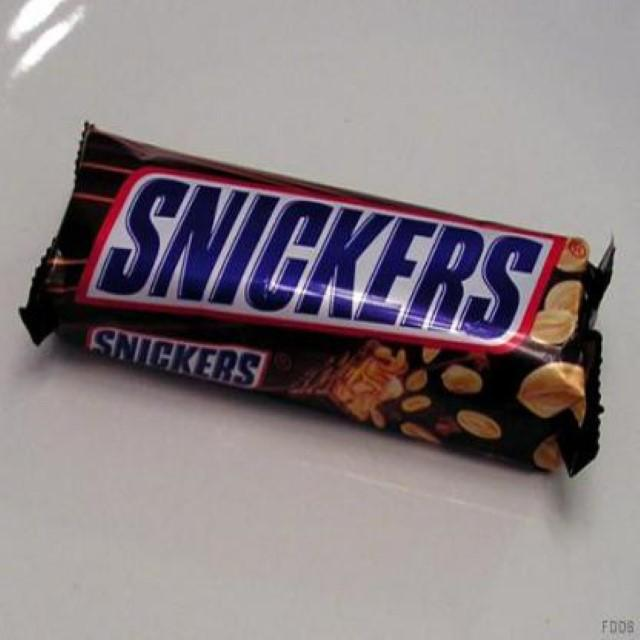snickers_chocolate: (30, 122, 618, 475)
